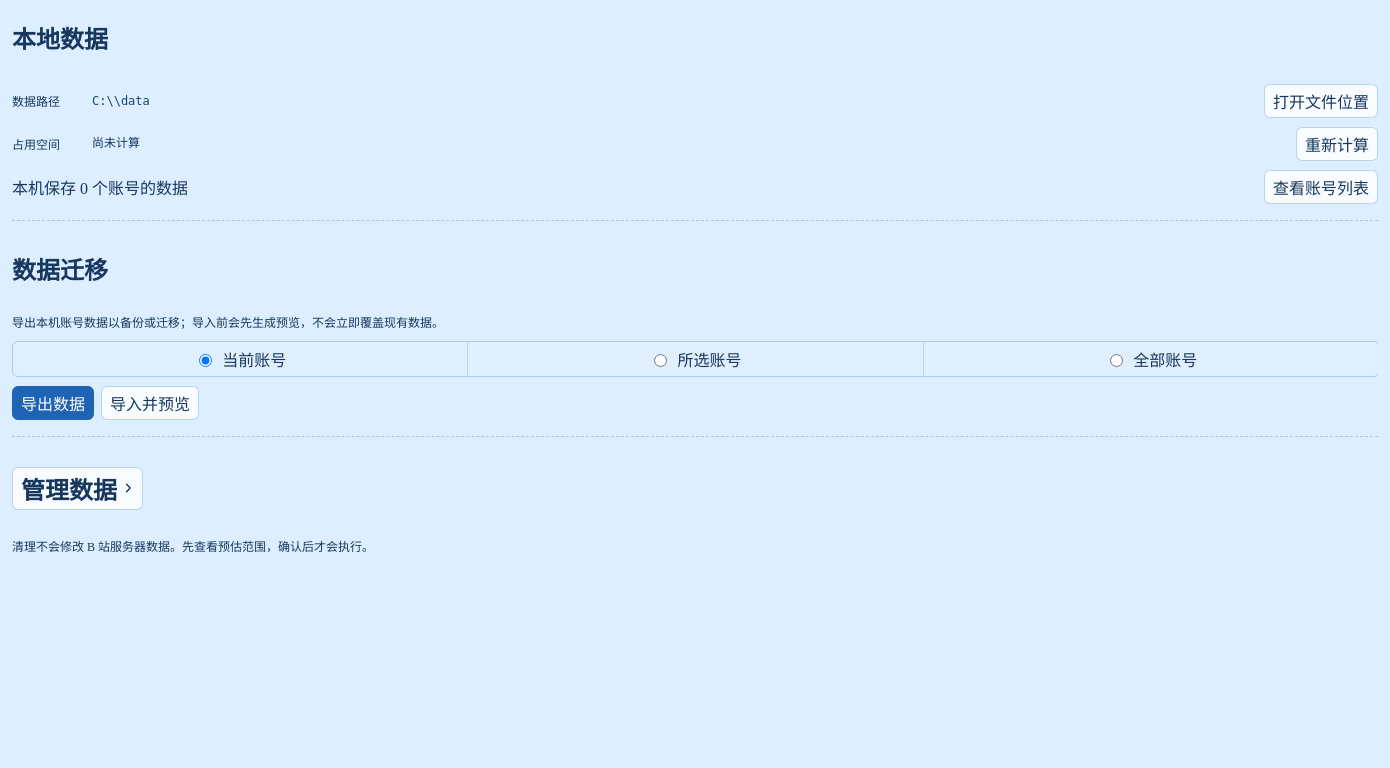
LocalDataSettings › retains an import preview token until the user explicitly chooses merge or overwrite
Click the button "导入并预览" at [150, 403], box [101, 386, 199, 420]
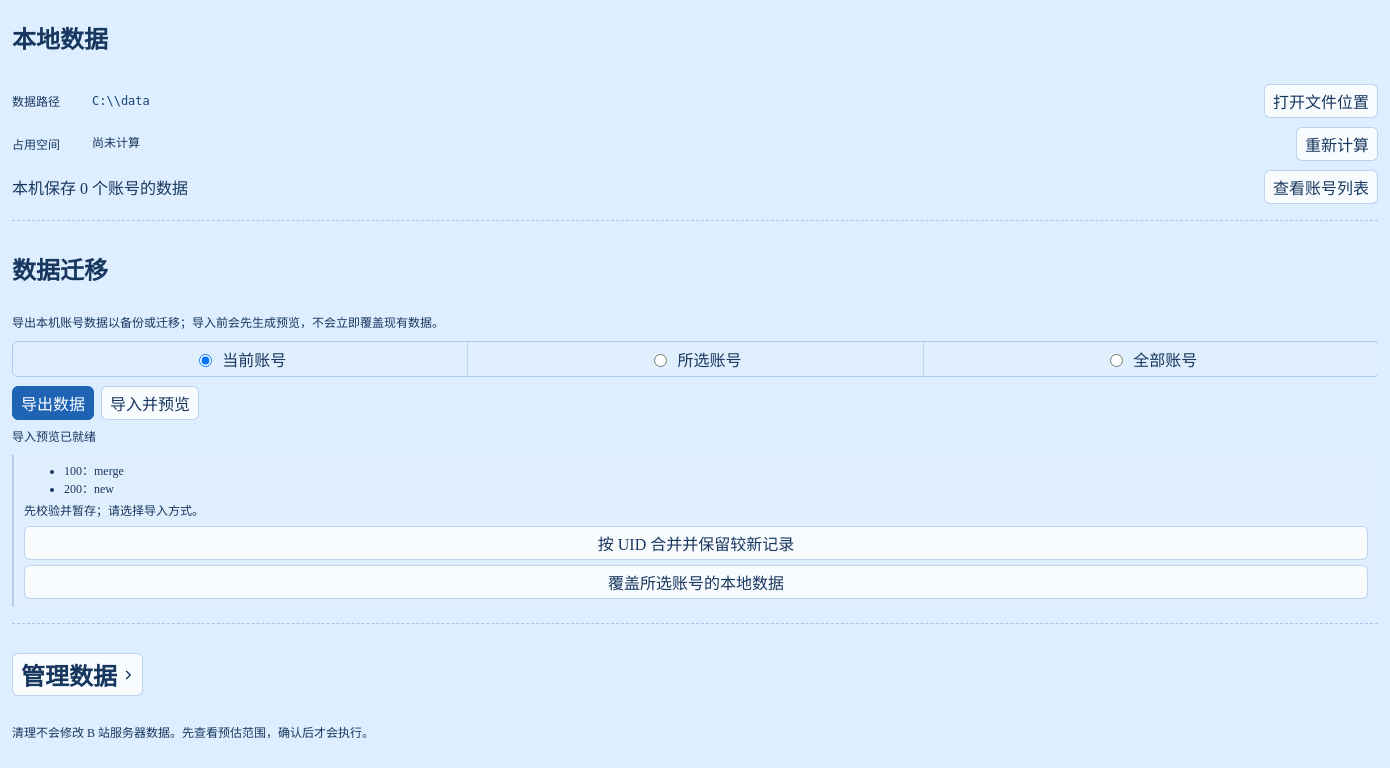
Check: the list named "导入预览" shows "200：new", box [64, 464, 124, 496]
Click the button "按 UID 合并并保留较新记录" at [696, 543], box [24, 526, 1368, 560]
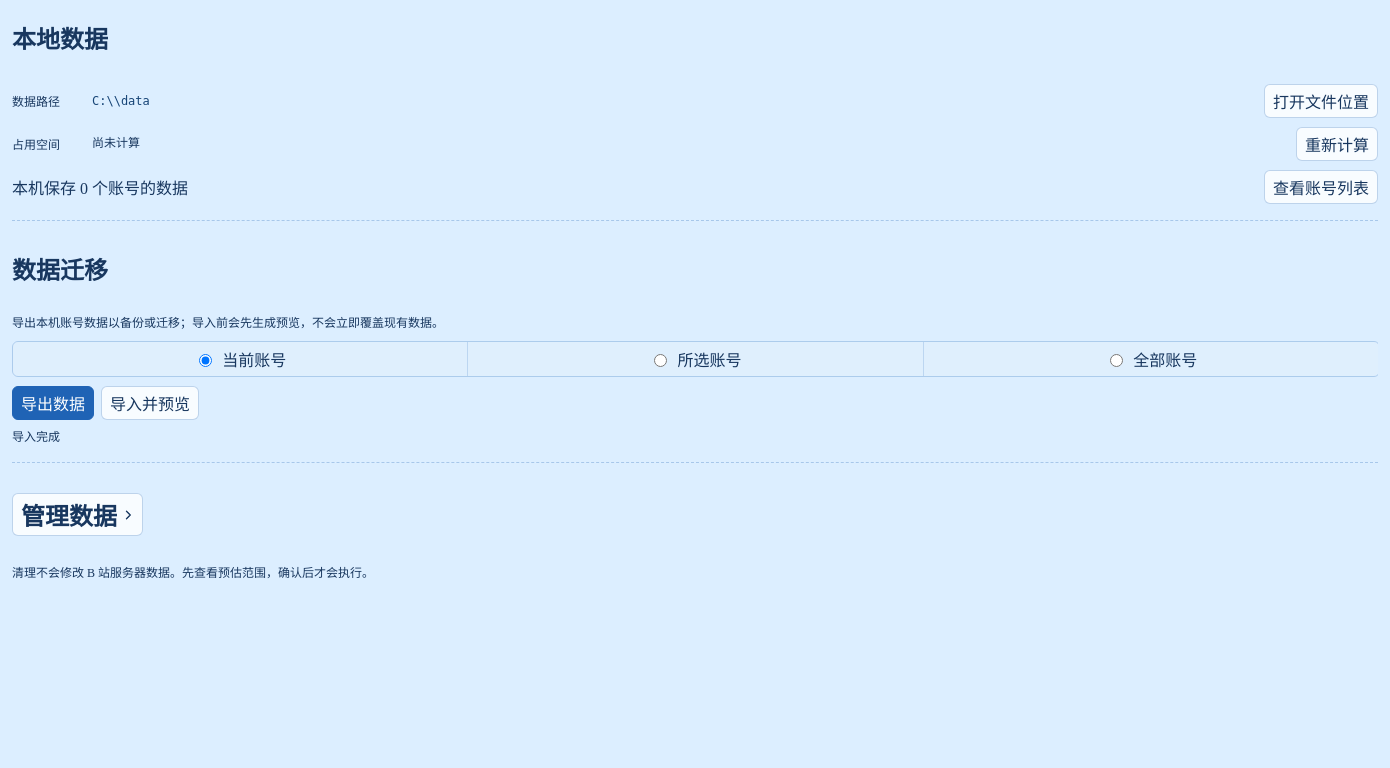
Check: the message reads "导入完成", box [12, 430, 60, 444]
Check: the message "导入预览" is gone
